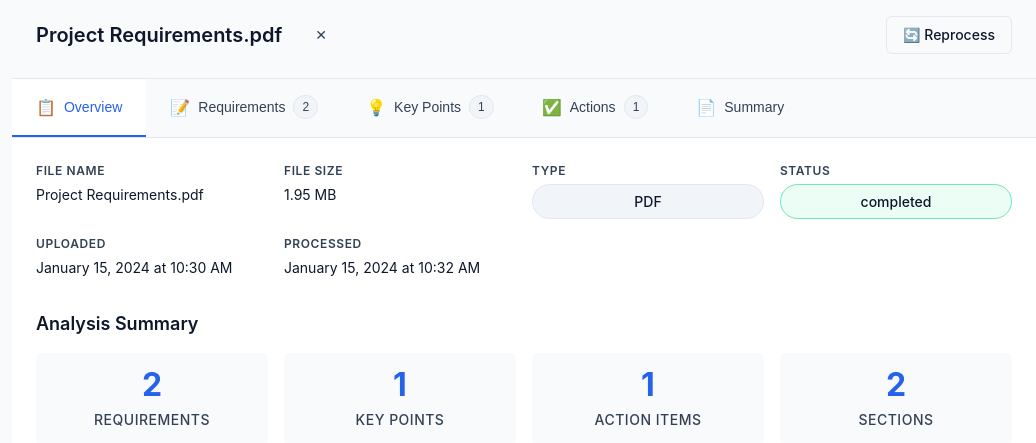
Test: DocumentViewer › displays summary correctly
# Switch to summary tab
Click the text "Summary": (754, 107) [724,99,784,115]
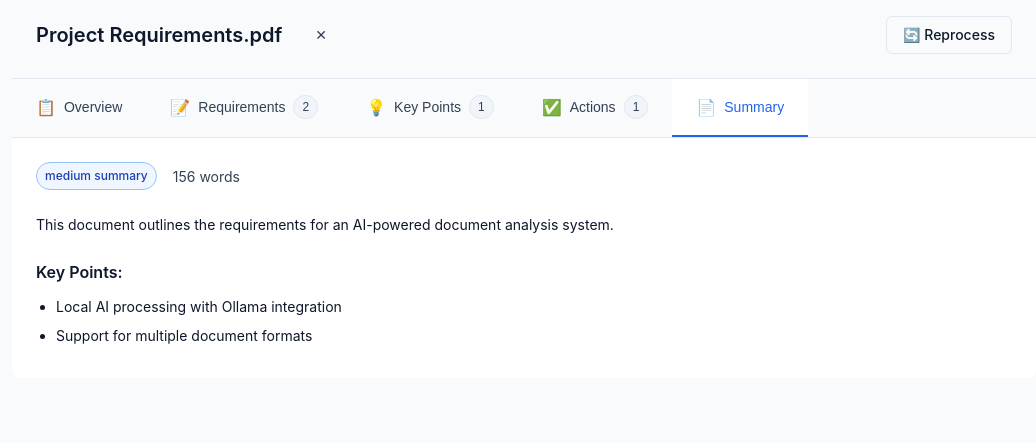
Expected: the text "medium summary" is shown, [36,162,157,190]
Expected: the text "156 words" is shown, [173,166,240,186]
Expected: the text "This document outlines the requirements for an AI-powered document analysis system." is shown, [36,216,614,233]
